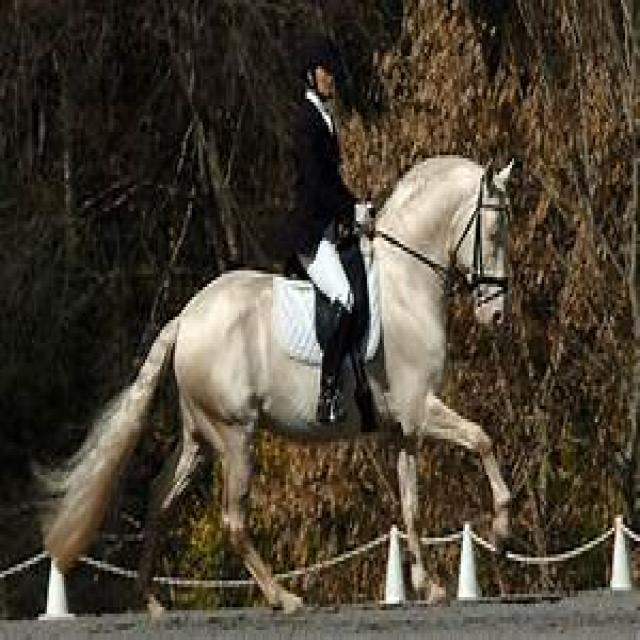animal: (32, 152, 518, 620)
